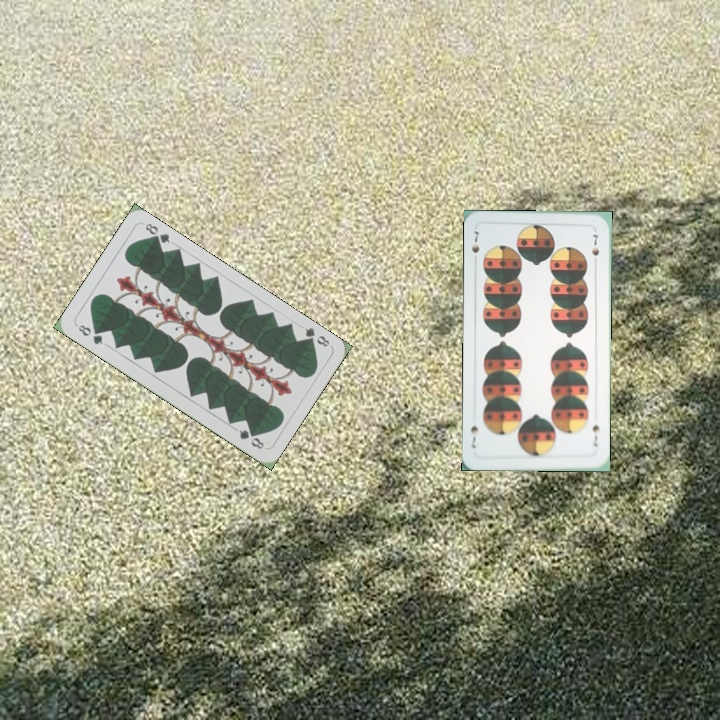G8: (73, 321, 105, 347), (300, 323, 332, 349)
S7: (468, 227, 482, 265), (588, 421, 602, 449)
